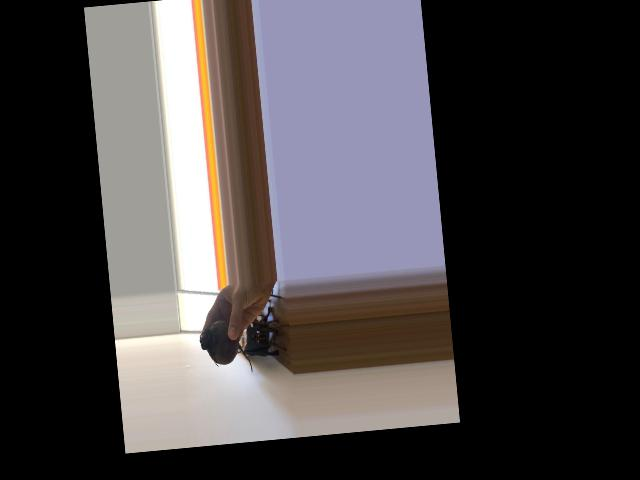beet: (198, 318, 253, 378)
